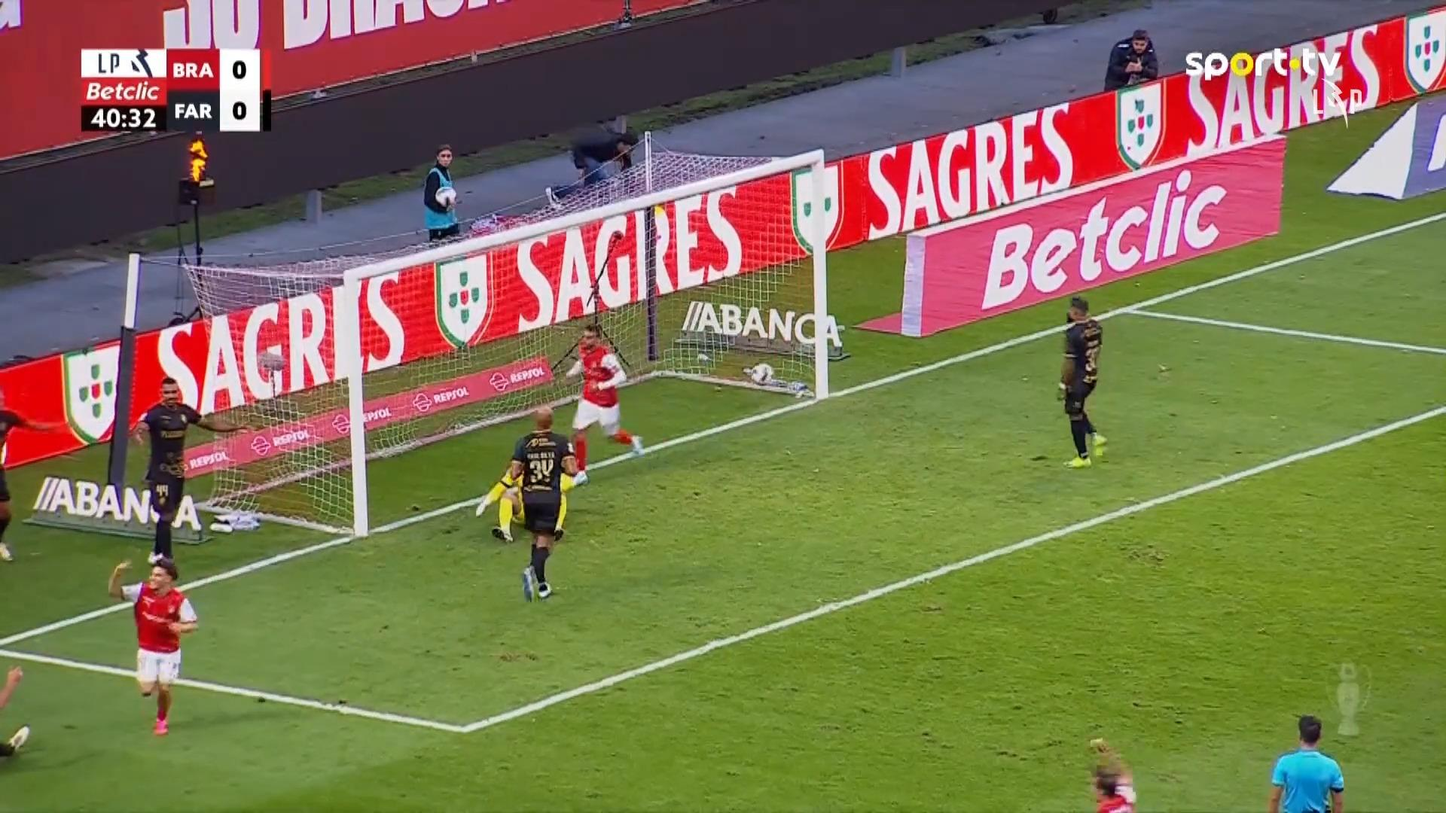ball: (749, 362, 773, 385)
goalkeeper: (475, 453, 587, 542)
player: (129, 376, 252, 566), (474, 405, 587, 602), (107, 553, 200, 736), (563, 322, 645, 486), (0, 388, 58, 562), (1055, 295, 1108, 468), (1087, 735, 1136, 811), (0, 665, 30, 757)
referee: (1268, 714, 1344, 811)
